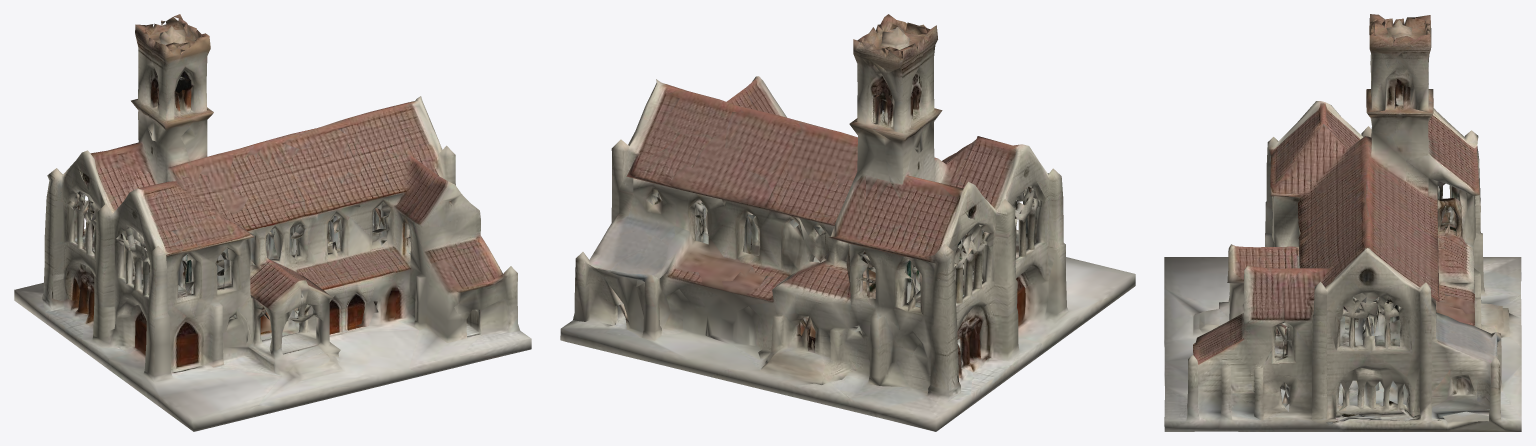
Rendered from blacksmith.glb.
3 views of the same model, side by side, from view 1: azimuth 30°, elevation 25°; view 2: azimuth 150°, elevation 25°; view 3: azimuth 270°, elevation 25° (orthographic). The views are drawn at different scales.
Bounding box in the file's own units: 1.91 × 1.6 × 1.76.
Materials: 1 (1 with a texture image).
